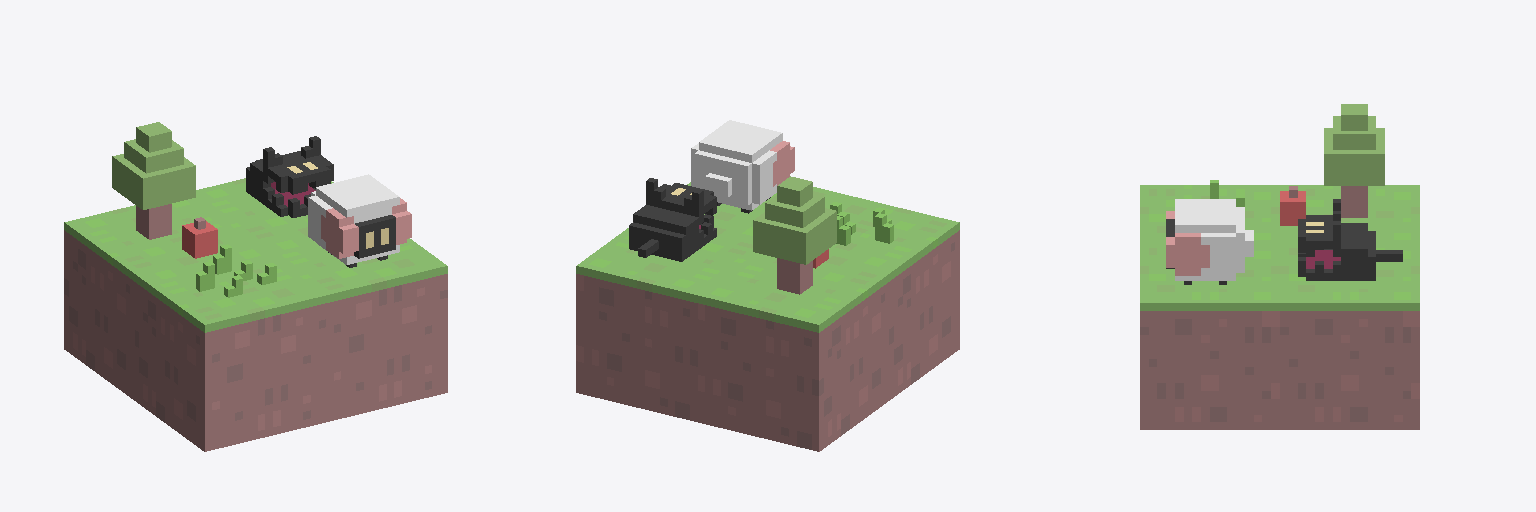
3 views of the same model, side by side, from view 1: azimuth 30°, elevation 25°; view 2: azimuth 150°, elevation 25°; view 3: azimuth 270°, elevation 25° (orthographic).
Parts seen in each view (by area): view 1: object 1; view 2: object 1; view 3: object 1.
Boxes of the visible parts, x1=… form: object 1: x1=64, y1=122, x2=447, y2=451; object 1: x1=576, y1=120, x2=959, y2=451; object 1: x1=1140, y1=104, x2=1419, y2=429.
Size of the model in its own units: 3.2 by 2.9 by 3.2.
1 materials, 1 textured.